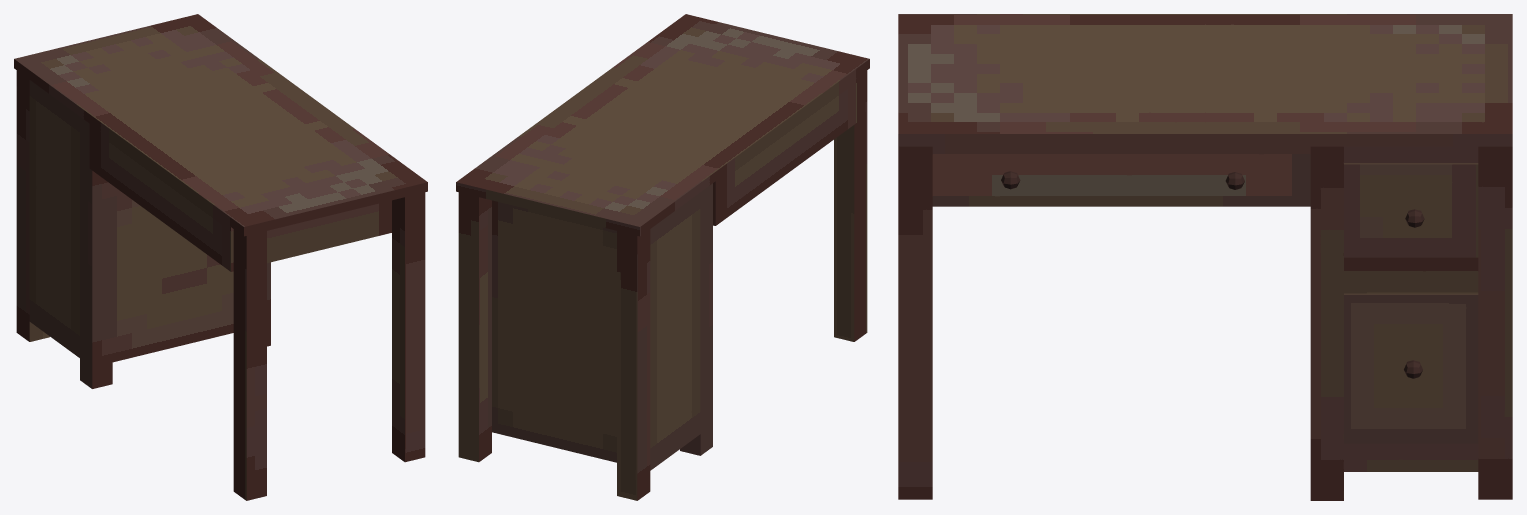
File: Deak_.fbx
3 renders of one model, left to right at view 1: azimuth 30°, elevation 25°; view 2: azimuth 150°, elevation 25°; view 3: azimuth 270°, elevation 25°, orthographic. The views are drawn at different scales.
Parts seen in each view (by area): view 1: Cube.005; view 2: Cube.005; view 3: Cube.005.
Boxes of the visible parts, box(x1,y1,x2,y2) form: Cube.005: box(14, 14, 427, 500); Cube.005: box(456, 14, 869, 500); Cube.005: box(898, 14, 1512, 500).
Bounding box in the file's own units: 413 × 561 × 848.
1 material, 1 textured.
